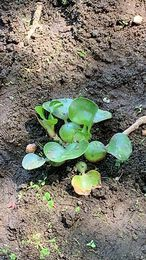water_hyacinth: (18, 85, 135, 184)
